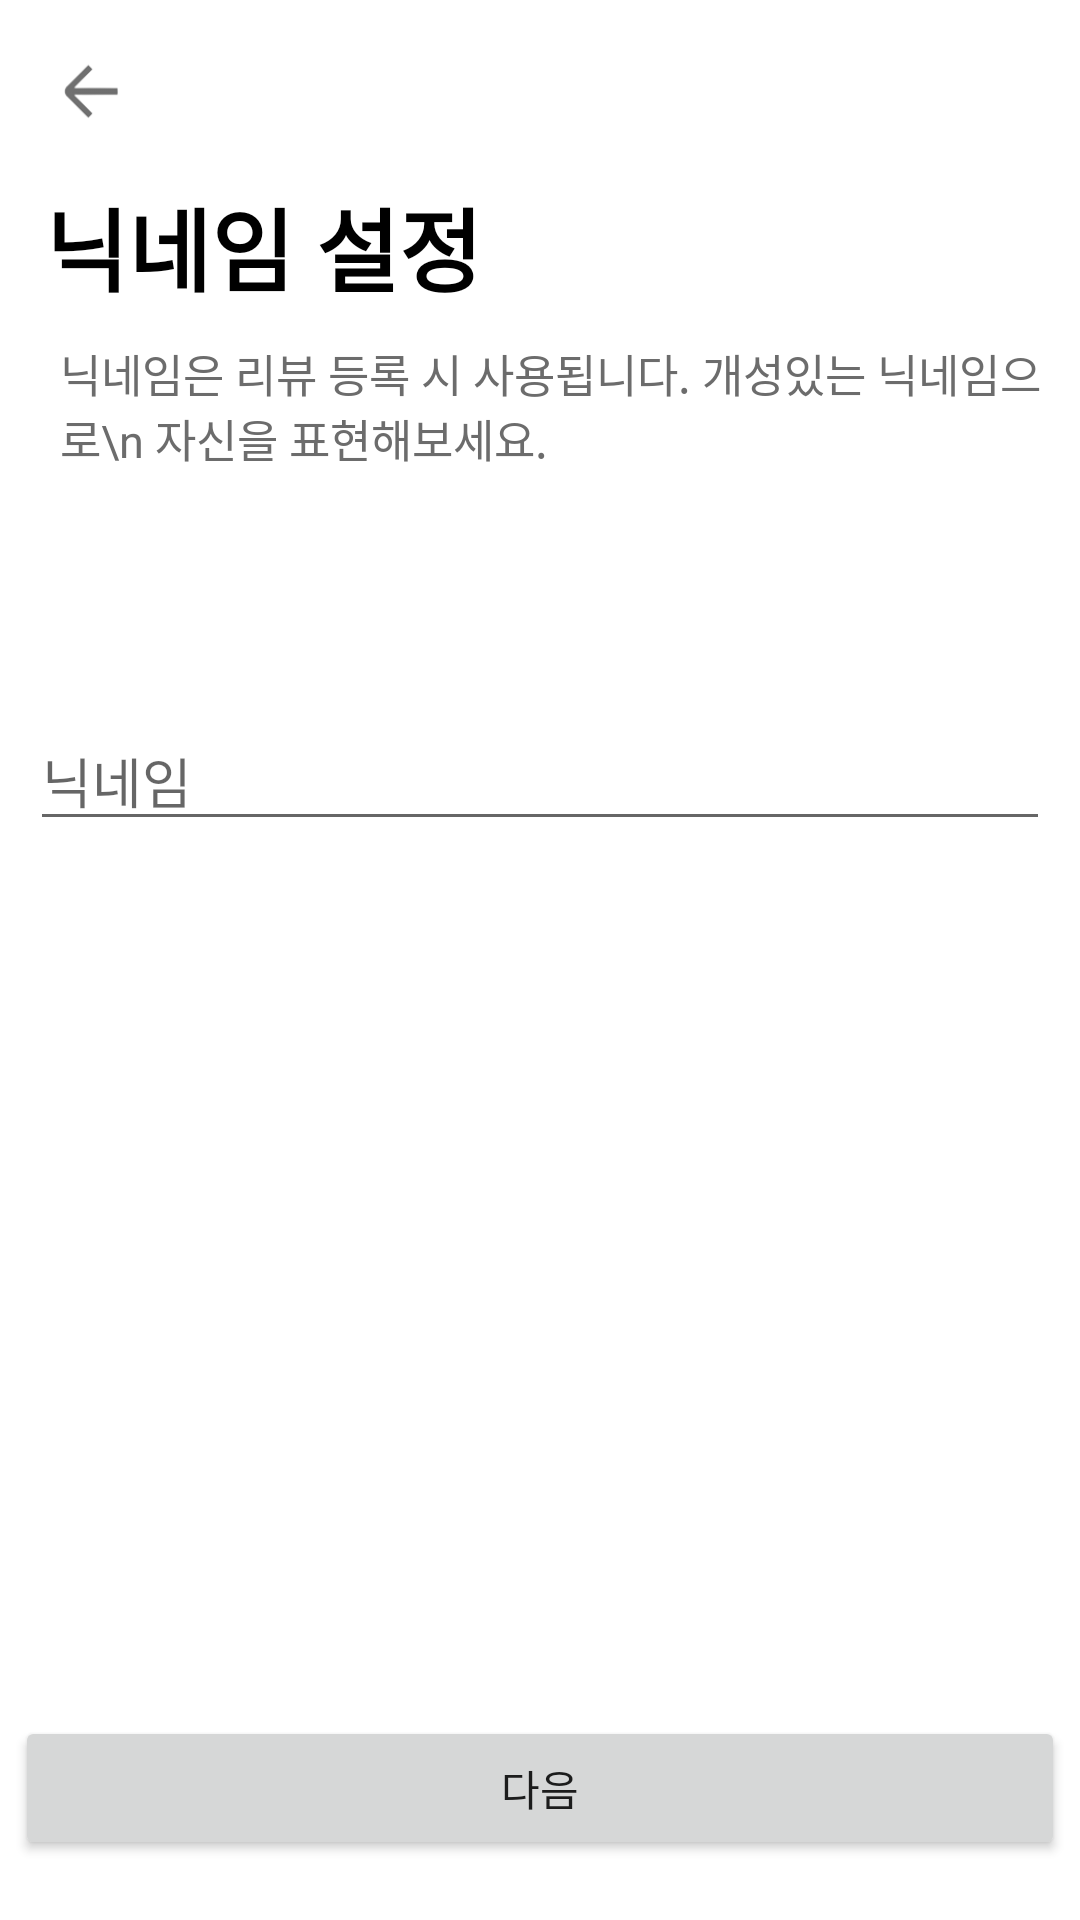

Screen size 1080 x 1920. Icon name, then its center in pixels as (x=x, y=y):
back: (x=91, y=91)
